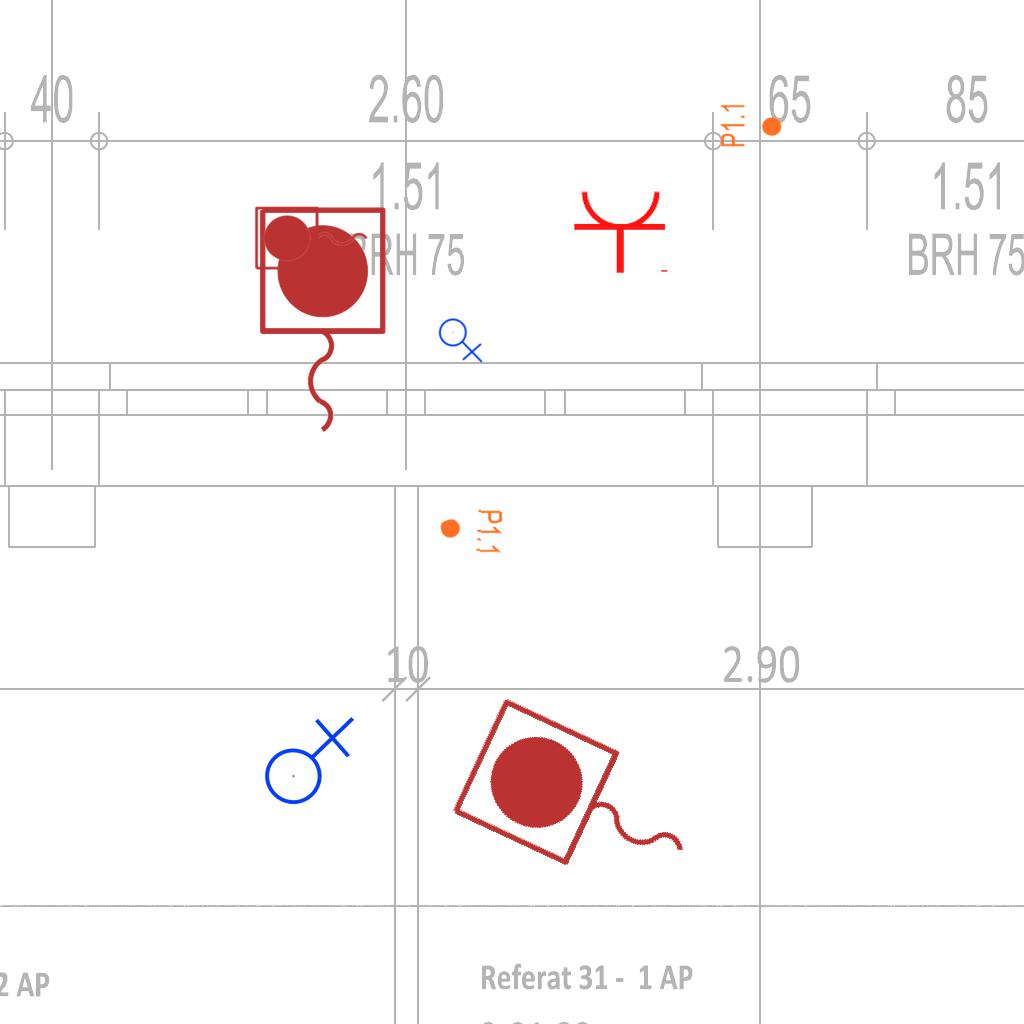Downlight_LED_Einbauleuchten_Flur: (437, 506, 505, 556), (719, 102, 783, 148)
Elektroanschluss_allgemein_230V_Geraeteanschlussdose_230V: (256, 712, 355, 806), (438, 314, 485, 363)
Schukosteckdose_einfach: (572, 188, 672, 275)
Zugtaster: (440, 688, 722, 922), (249, 199, 393, 443), (251, 203, 373, 275)
